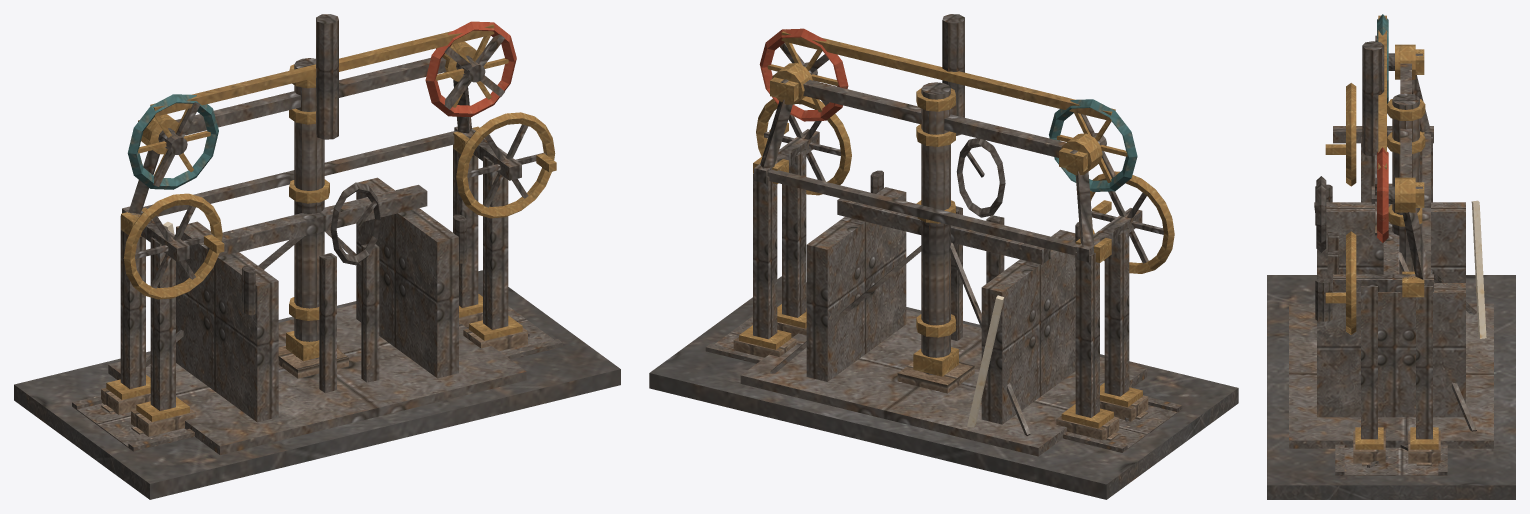
File: canal-segment-a-marker.glb
3 views of the same model, side by side, from view 1: azimuth 30°, elevation 25°; view 2: azimuth 150°, elevation 25°; view 3: azimuth 270°, elevation 25° (orthographic). The views are drawn at different scales.
Visible parts, largest first — view 1: canal-segment-a-marker; view 2: canal-segment-a-marker; view 3: canal-segment-a-marker.
Boxes of the visible parts, x1,y1,x2,y2 form: canal-segment-a-marker: (14, 14, 620, 499); canal-segment-a-marker: (649, 14, 1238, 499); canal-segment-a-marker: (1267, 14, 1515, 499).
Bounding box in the file's own units: 6.8 × 5.26 × 3.4.
1 material, 1 textured.
